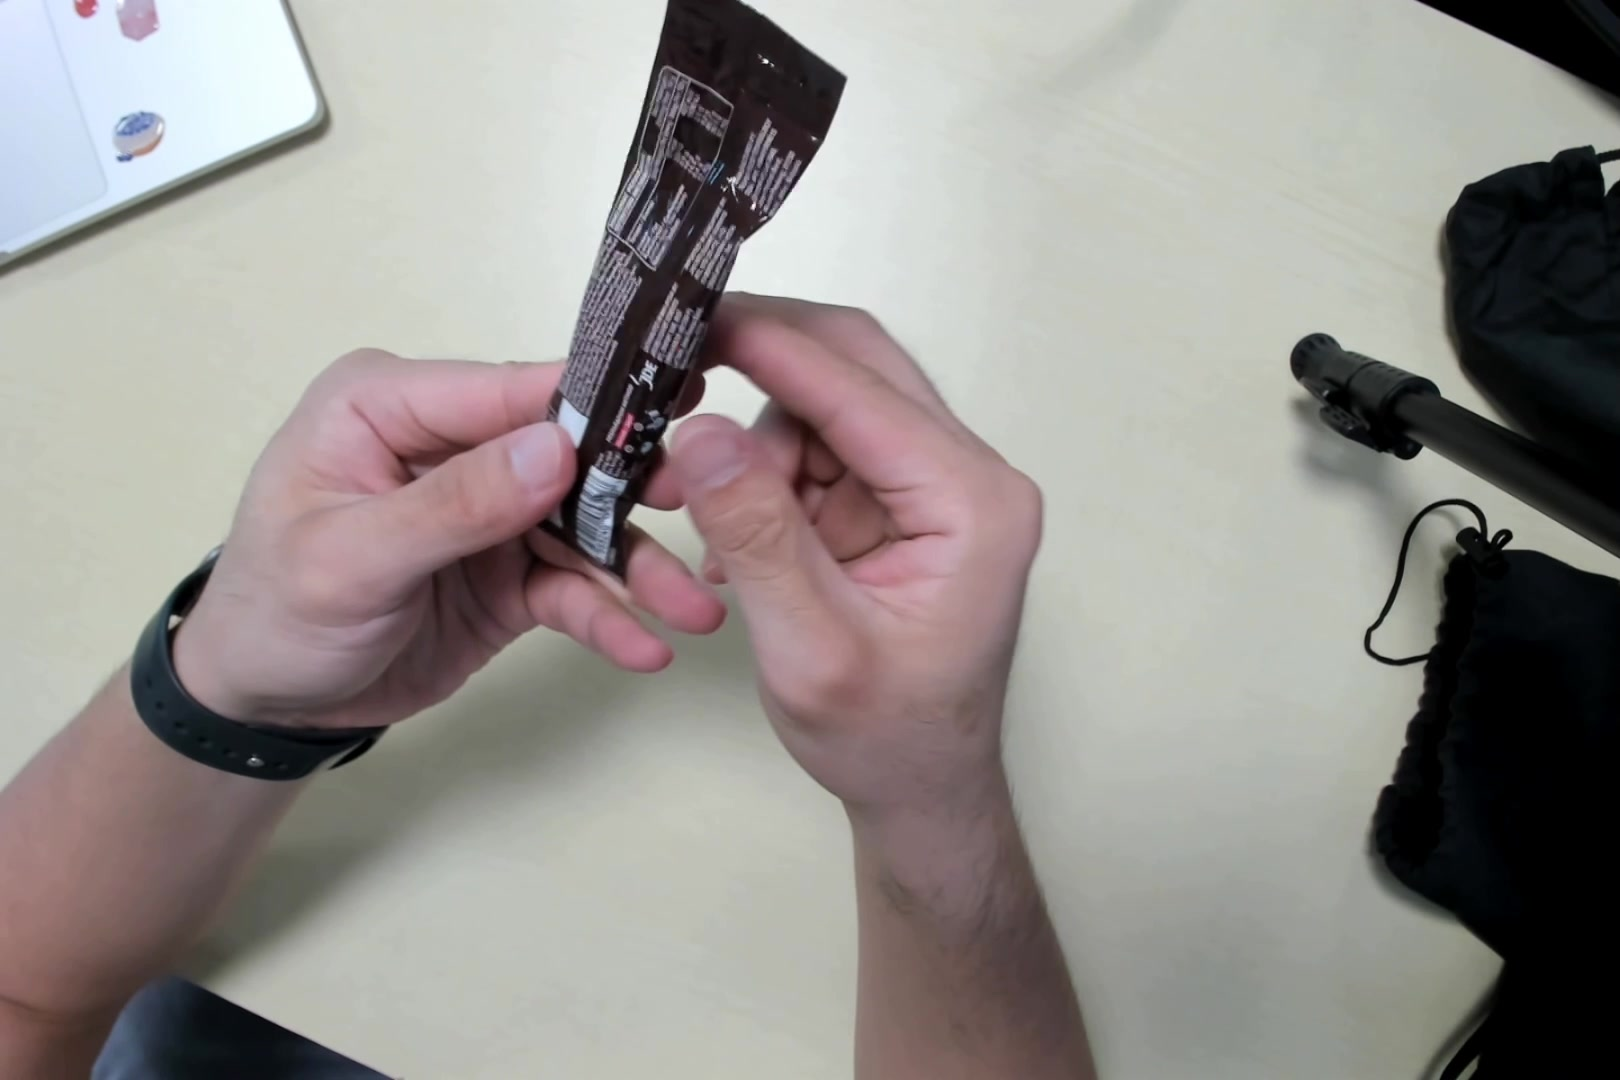Coffee(Powder)_0-99g_Halal_NonHealthy: (521, 8, 847, 581)
